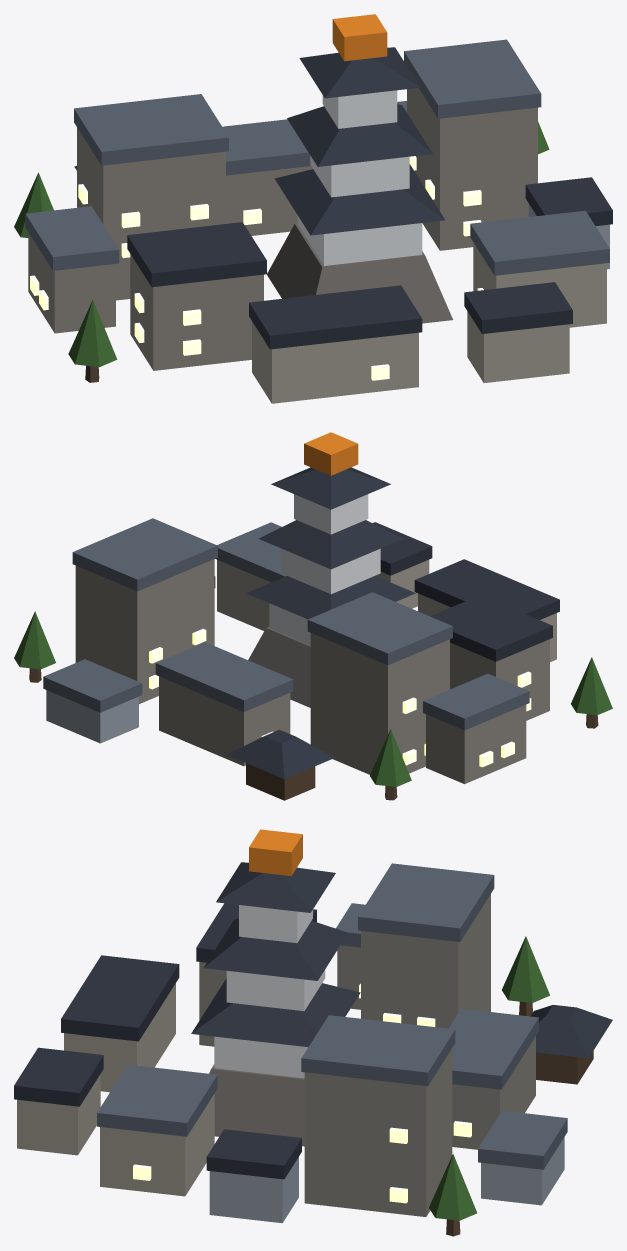
File: overworld-settlement-east-asian-town.glb
3 renders of one model, top to bottom at view 1: azimuth 30°, elevation 25°; view 2: azimuth 150°, elevation 25°; view 3: azimuth 270°, elevation 25°, orthographic. The views are drawn at different scales.
Parts seen in each view (by area): view 1: settlement; view 2: settlement; view 3: settlement.
Part boxes in pixels (x1,y1,x2,y2): settlement: (14, 14, 612, 403); settlement: (14, 432, 612, 800); settlement: (14, 829, 612, 1236).
Bounding box in the file's own units: 0.529 × 0.236 × 0.4755.
